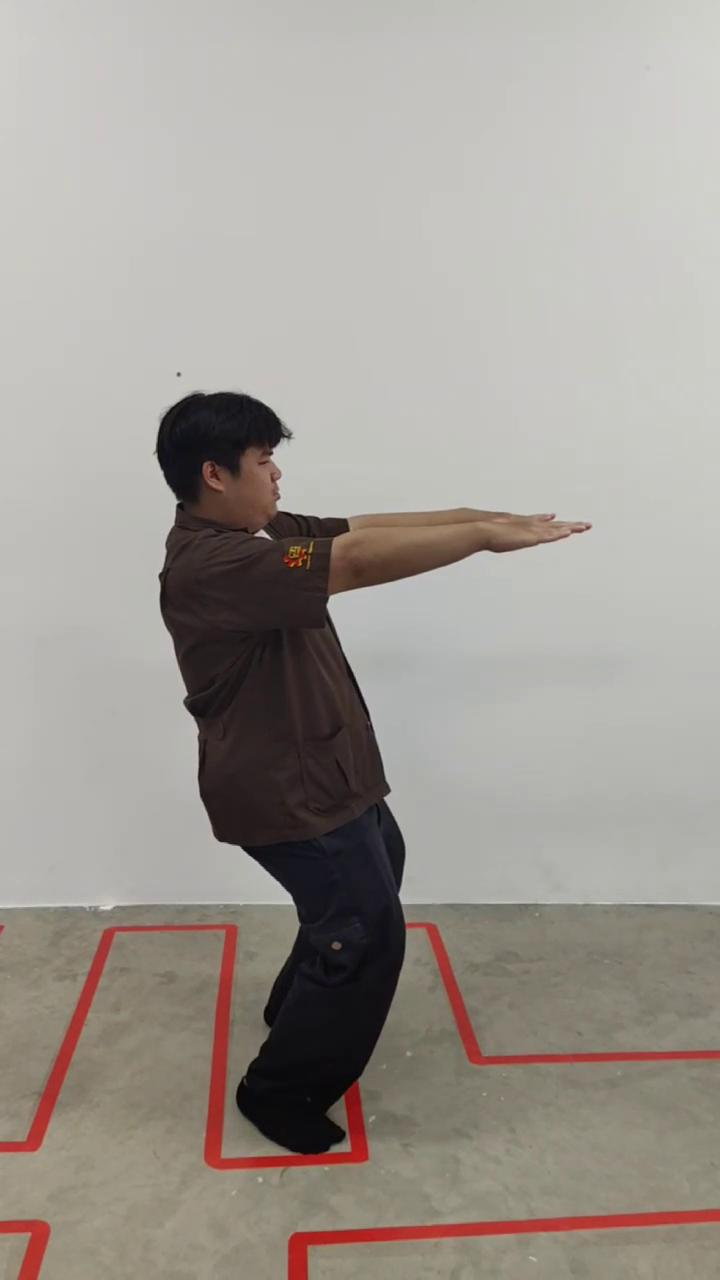squat up: (156, 387, 587, 1161)
